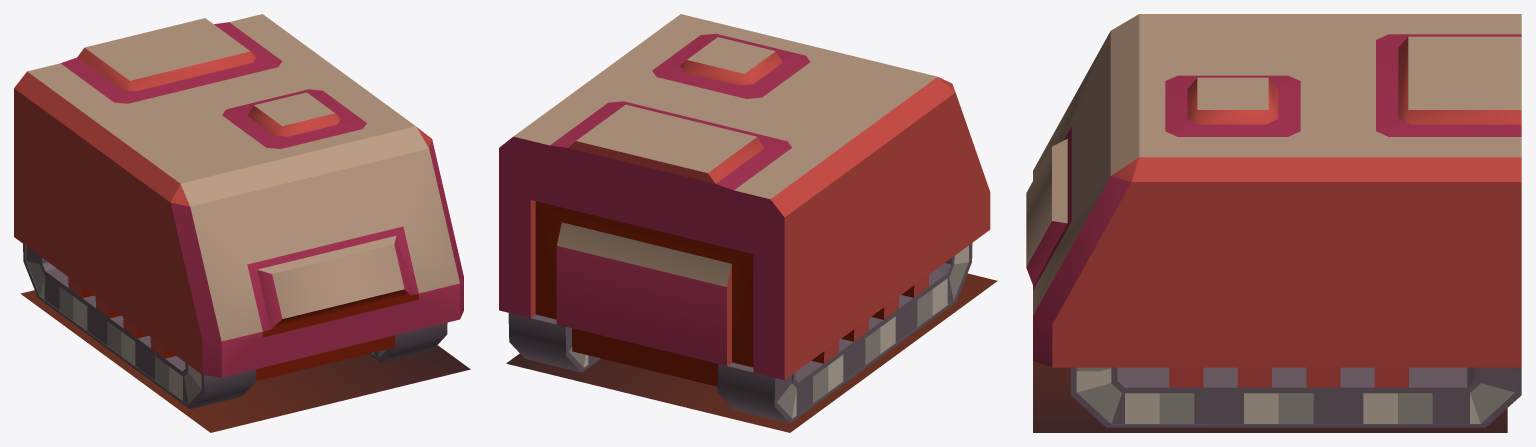
Rendered from APCMesh.RedFire.glb.
3 views of the same model, side by side, from view 1: azimuth 30°, elevation 25°; view 2: azimuth 150°, elevation 25°; view 3: azimuth 270°, elevation 25° (orthographic). The views are drawn at different scales.
Parts seen in each view (by area): view 1: APCMesh.RedFire; view 2: APCMesh.RedFire; view 3: APCMesh.RedFire.
Part boxes in pixels (bbox=[...]): APCMesh.RedFire: bbox=[14, 14, 470, 432]; APCMesh.RedFire: bbox=[499, 14, 997, 432]; APCMesh.RedFire: bbox=[1026, 14, 1521, 432].
Bounding box in the file's own units: 1.51 × 1.25 × 1.98.
1 material, 1 textured.
